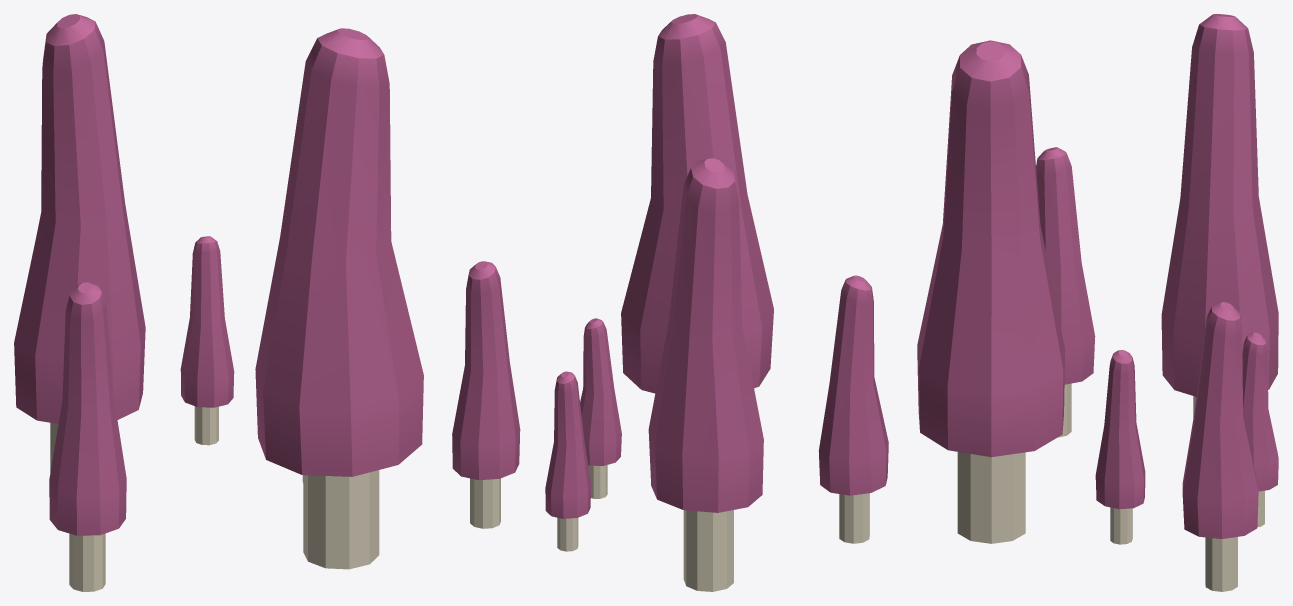
The model's file is PinkMushrooms.fbx.
3 views of the same model, side by side, from view 1: azimuth 30°, elevation 25°; view 2: azimuth 150°, elevation 25°; view 3: azimuth 270°, elevation 25° (orthographic). The views are drawn at different scales.
Parts seen in each view (by area): view 1: PinkMushrooms; view 2: PinkMushrooms; view 3: PinkMushrooms.
Part boxes in pixels (left/top/right/bottom): PinkMushrooms: left=14, top=14, right=423, bottom=591; PinkMushrooms: left=452, top=14, right=888, bottom=591; PinkMushrooms: left=917, top=14, right=1278, bottom=591.
Size of the model in its own units: 6.04 by 7.54 by 5.01.
